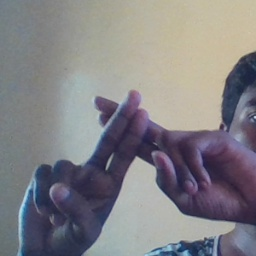F: (56, 81, 205, 203)
